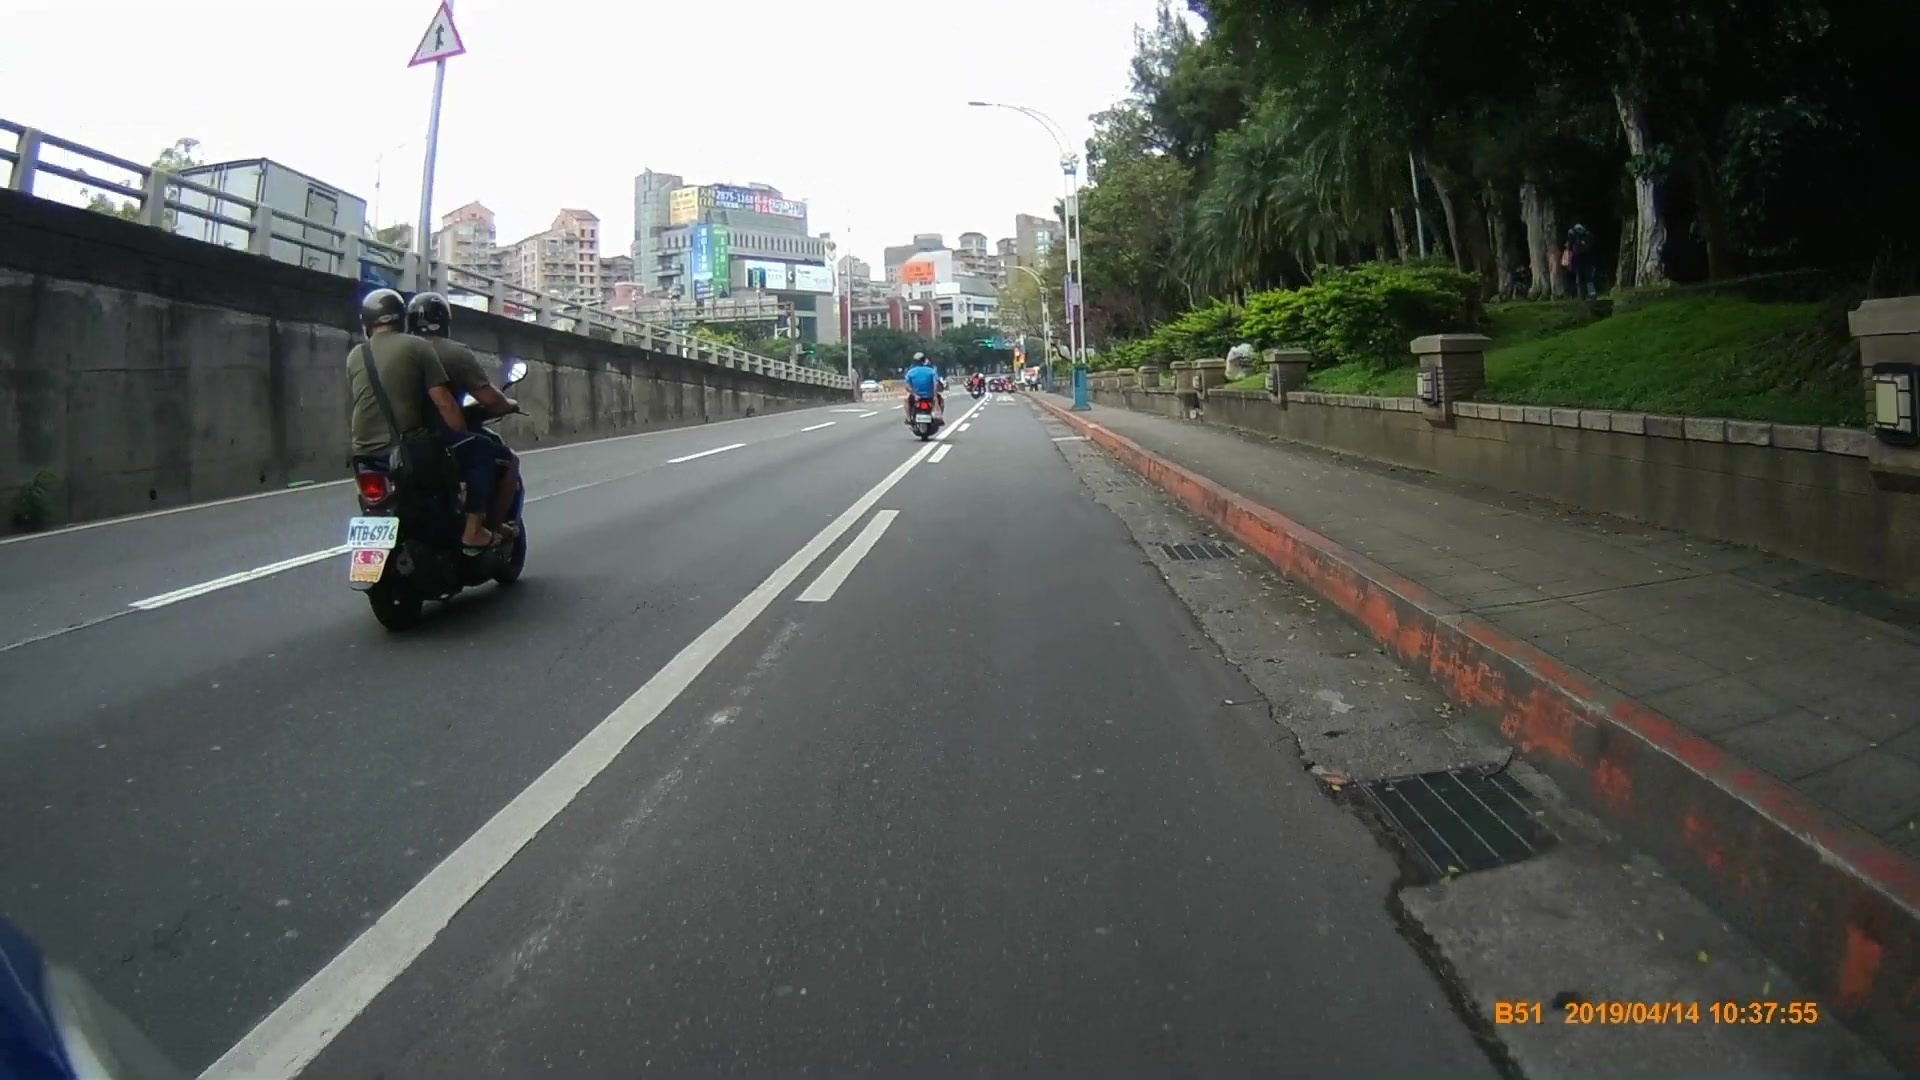License_plate: (348, 512, 402, 551)
